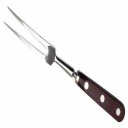Fork: (3, 4, 128, 128)
